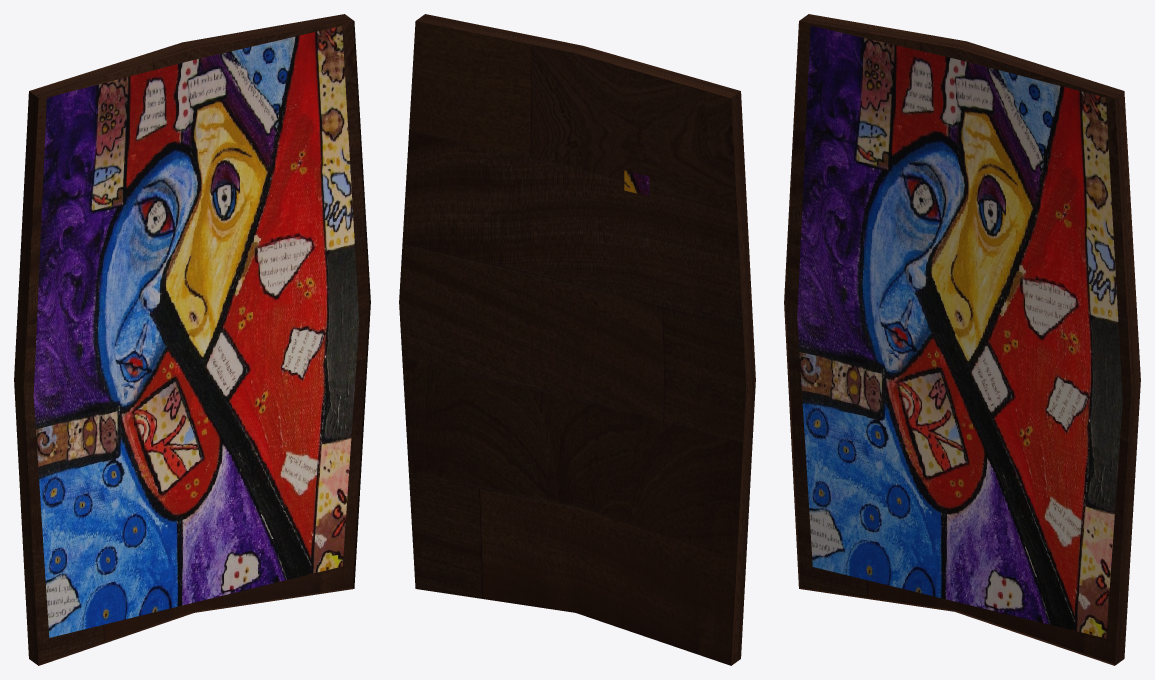
Rendered from drawing6.FBX.
3 views of the same model, side by side, from view 1: azimuth 30°, elevation 25°; view 2: azimuth 150°, elevation 25°; view 3: azimuth 330°, elevation 25° (orthographic).
Parts seen in each view (by area): view 1: Box001; view 2: Box001; view 3: Box001.
Part boxes in pixels (x1,y1,x2,y2): Box001: (14, 14, 370, 665); Box001: (399, 14, 755, 665); Box001: (784, 14, 1140, 665).
Bounding box in the file's own units: 25.46 × 40.42 × 1.52.
